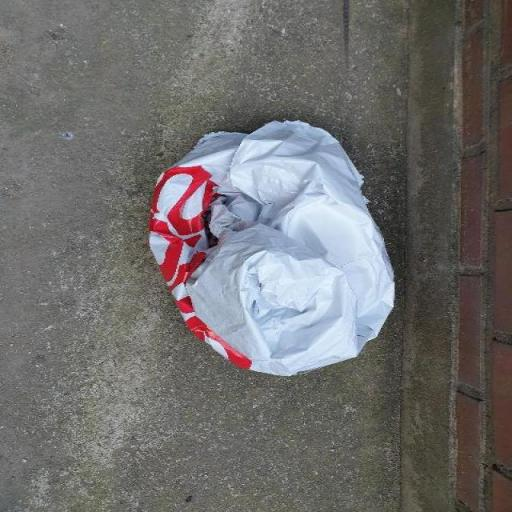plastic-bag: (144, 116, 403, 378)
